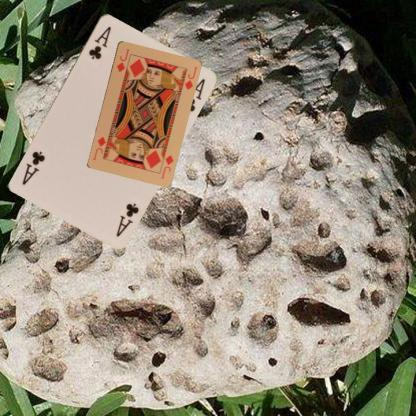Ac: (86, 23, 112, 61), (114, 199, 140, 237)
Jd: (114, 46, 130, 74), (158, 152, 174, 180)
